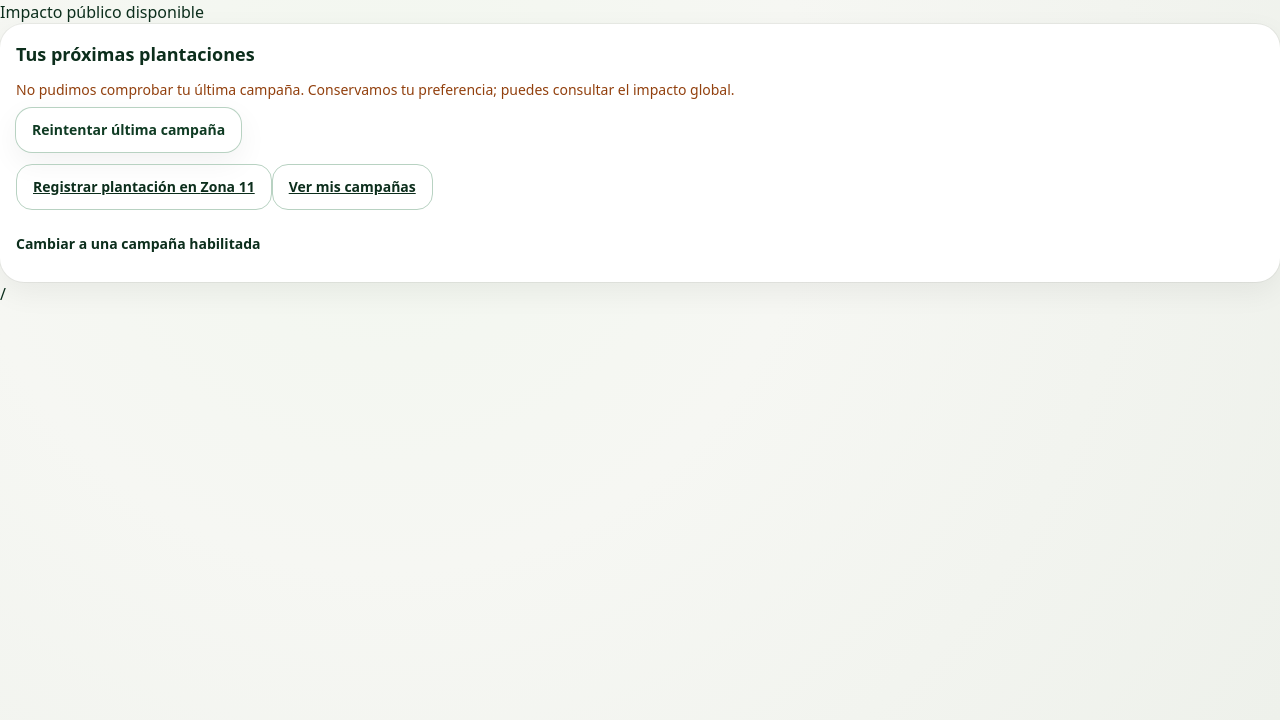
Test case: acciones separadas de la consulta pública › un error público transitorio permite reintento y no borra la preferencia
The width and height of the screenshot is (1280, 720).
Click the button "Reintentar última campaña" at (129, 130), box x1=16 y1=108 x2=241 y2=152
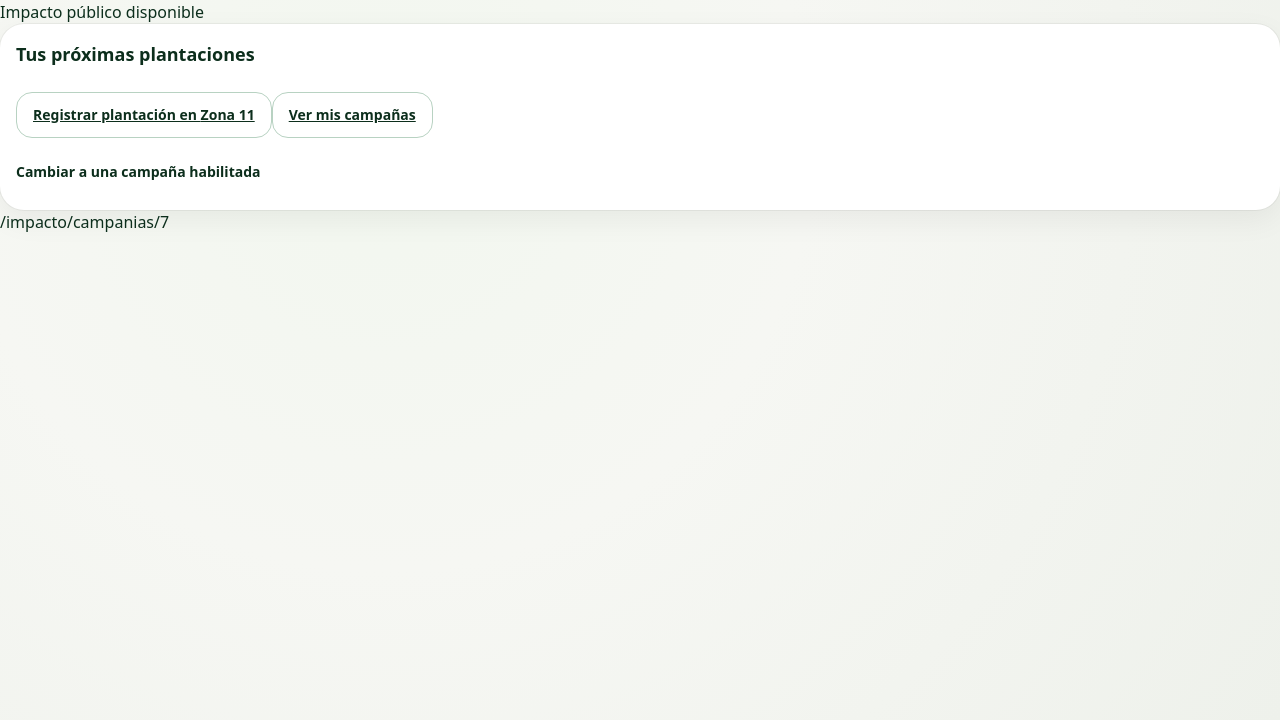
Expected: the text with test id "location" reads "/impacto/campanias/7", x1=0 y1=211 x2=169 y2=233
